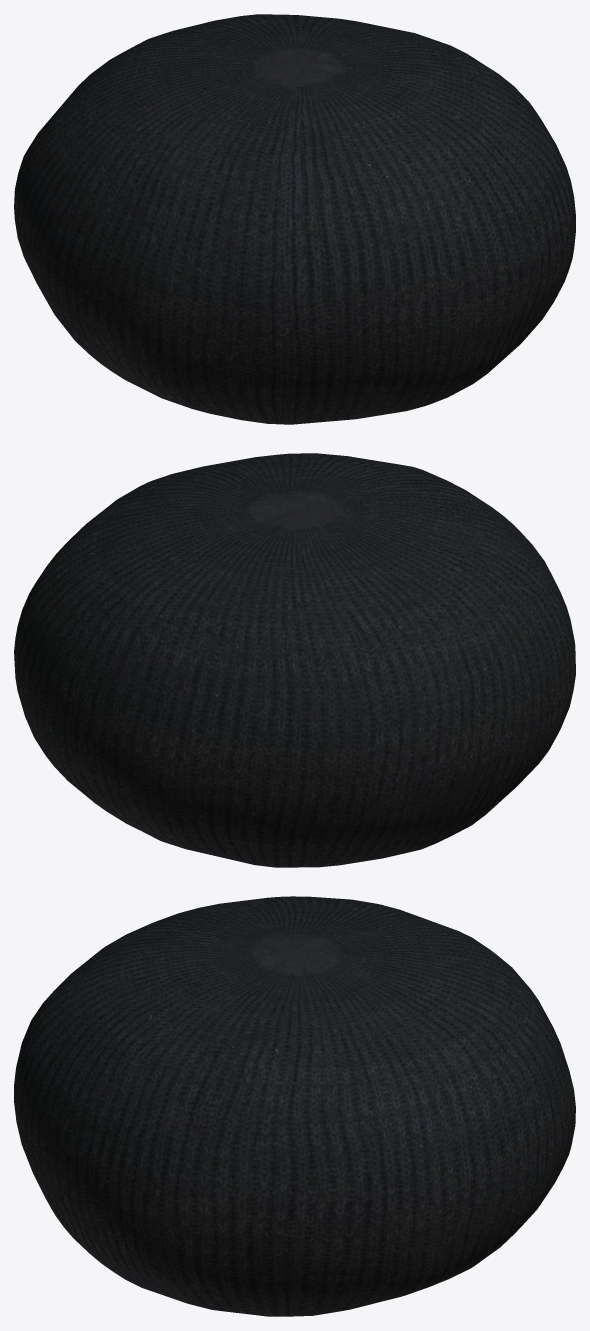
Rendered from SANDARED pouffe - dark blue.glb.
3 views of the same model, one above another, from view 1: azimuth 30°, elevation 25°; view 2: azimuth 150°, elevation 25°; view 3: azimuth 270°, elevation 25° (orthographic).
Parts seen in each view (by area): view 1: model; view 2: model; view 3: model.
Boxes of the visible parts, box(x1,y1,x2,y2) form: model: box(14, 14, 575, 424); model: box(14, 453, 575, 867); model: box(14, 896, 575, 1316).
Bounding box in the file's own units: 0.7004 × 0.4379 × 0.7108.
1 material, 1 textured.
